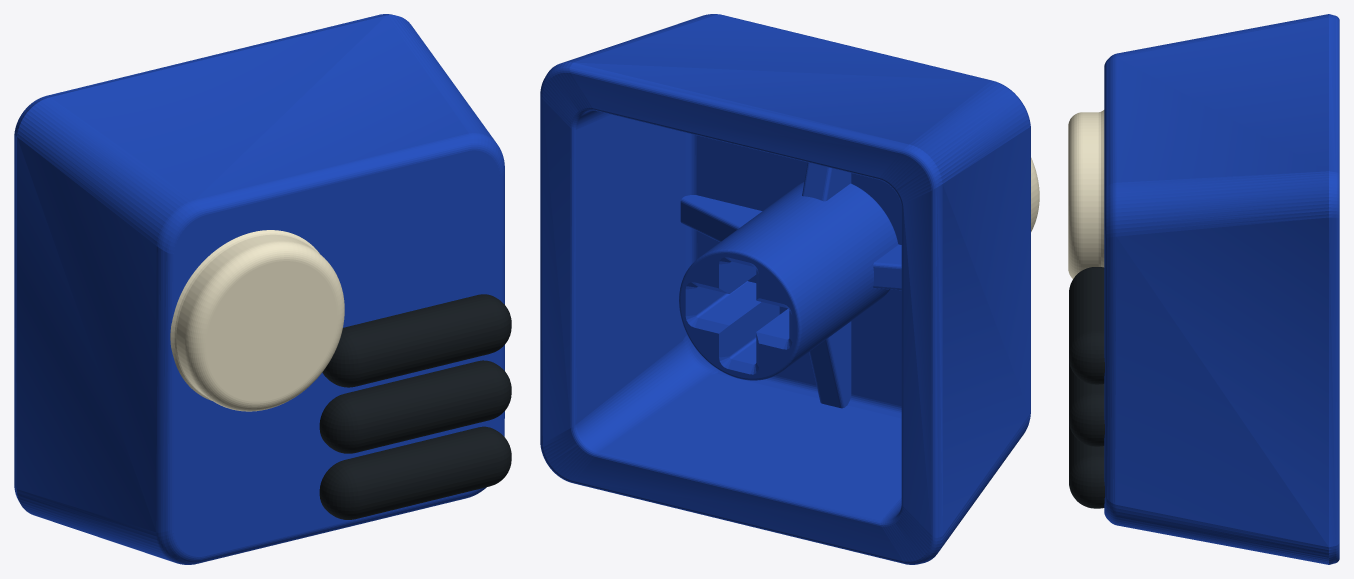
Rendered from 03_DISC_RAILS.obj.
3 renders of one model, left to right at view 1: azimuth 30°, elevation 25°; view 2: azimuth 150°, elevation 25°; view 3: azimuth 270°, elevation 25°, orthographic. The views are drawn at different scales.
Visible parts, largest first — view 1: Color_copy_|_DISC_|_hollow_1u_shell; view 2: Color_copy_|_DISC_|_hollow_1u_shell; view 3: Color_copy_|_DISC_|_hollow_1u_shell.
Part boxes in pixels (x1,y1,x2,y2): Color_copy_|_DISC_|_hollow_1u_shell: (14, 14, 511, 564); Color_copy_|_DISC_|_hollow_1u_shell: (540, 14, 1039, 564); Color_copy_|_DISC_|_hollow_1u_shell: (1068, 14, 1339, 564).
Size of the model in its own units: 18 by 18 by 11.3.
1 material, 1 textured.
